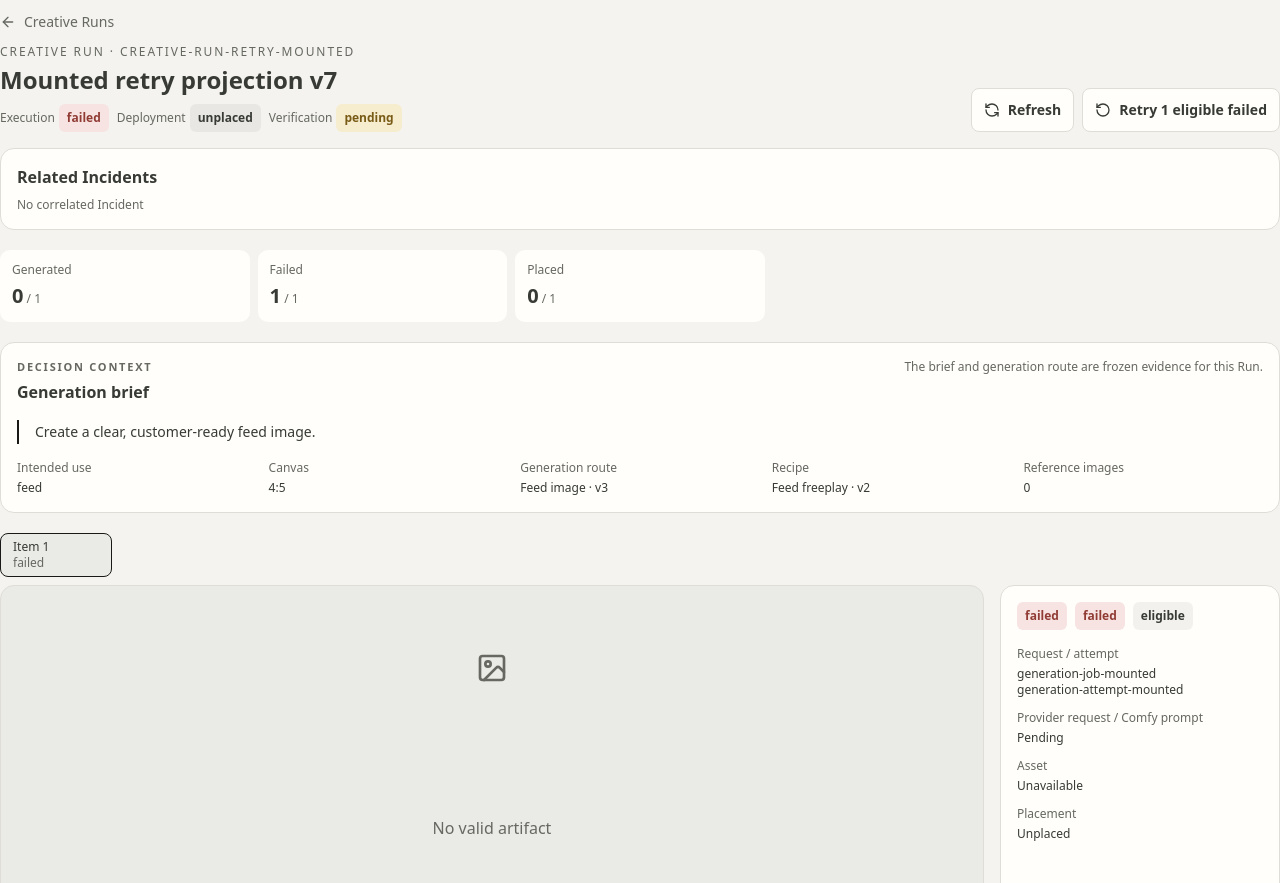
Creative Run asynchronous retry command › surfaces a failed command with its audit trail and starts a new idempotent intent only after an explicit retry
Click the button "Retry 1 eligible failed": (1181, 110) [1082,88,1279,132]
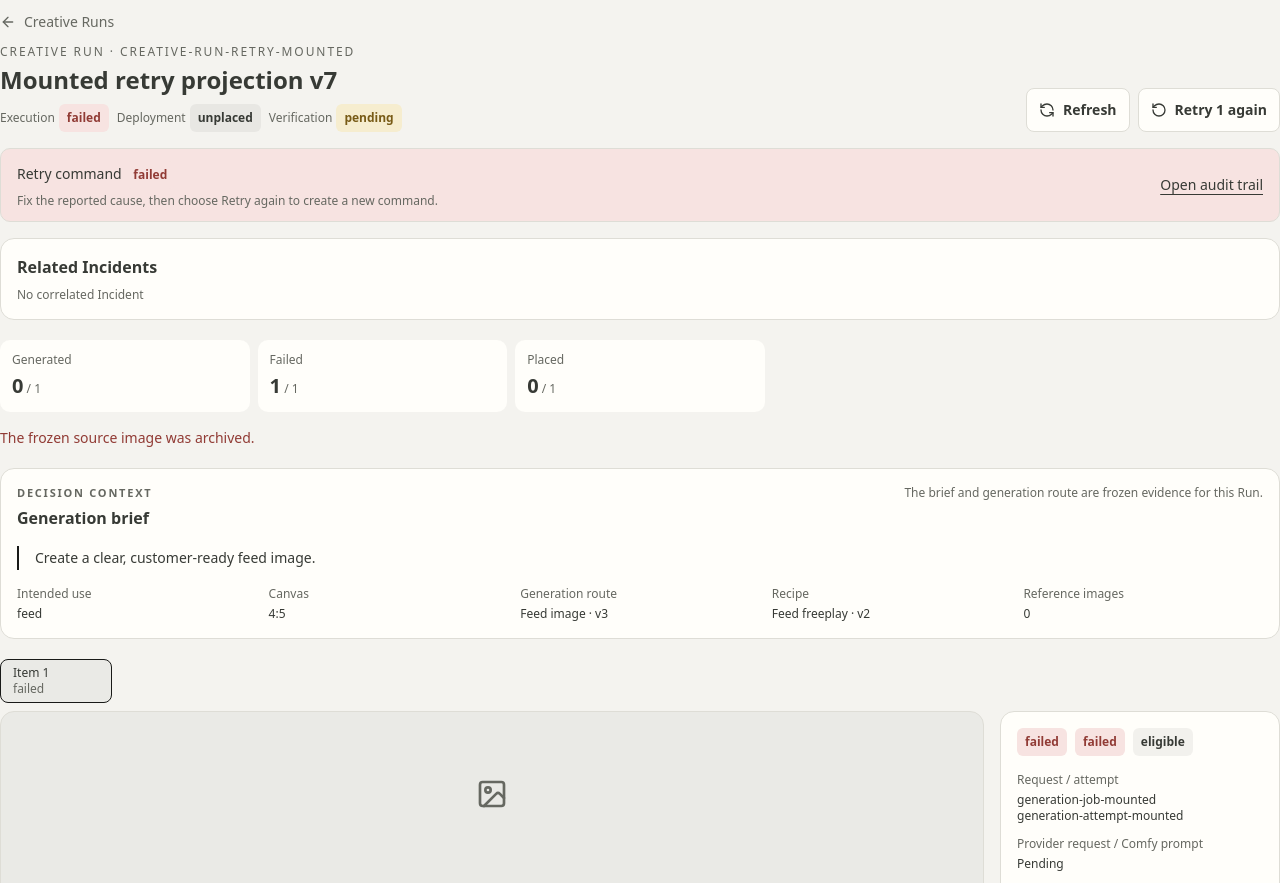
Expected: the text "The frozen source image was archived." is shown, [0,428,255,447]
Expected: the text "Retry 1 again" is shown
Expected: the link to "/admin/audit?commandId=retry-command-1" is shown, [1160,175,1263,194]
Click the button "Retry 1 again": (1209, 110) [1138,88,1279,132]
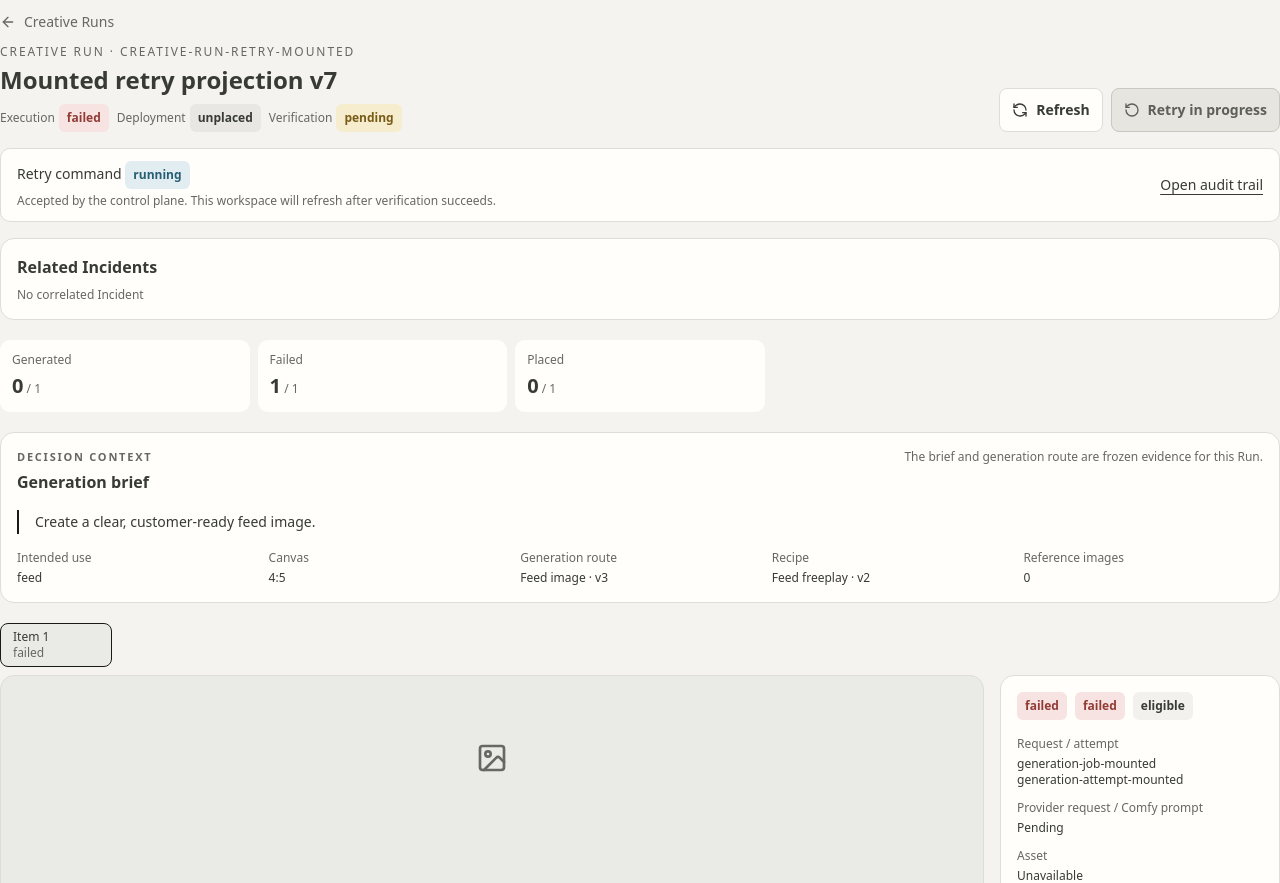
Expected: the link to "/admin/audit?commandId=retry-command-2" is shown, [1160,175,1263,194]
Expected: the text "Retry in progress" is shown, [1111,88,1279,132]
Expected: the text "The frozen source image was archived." is gone
